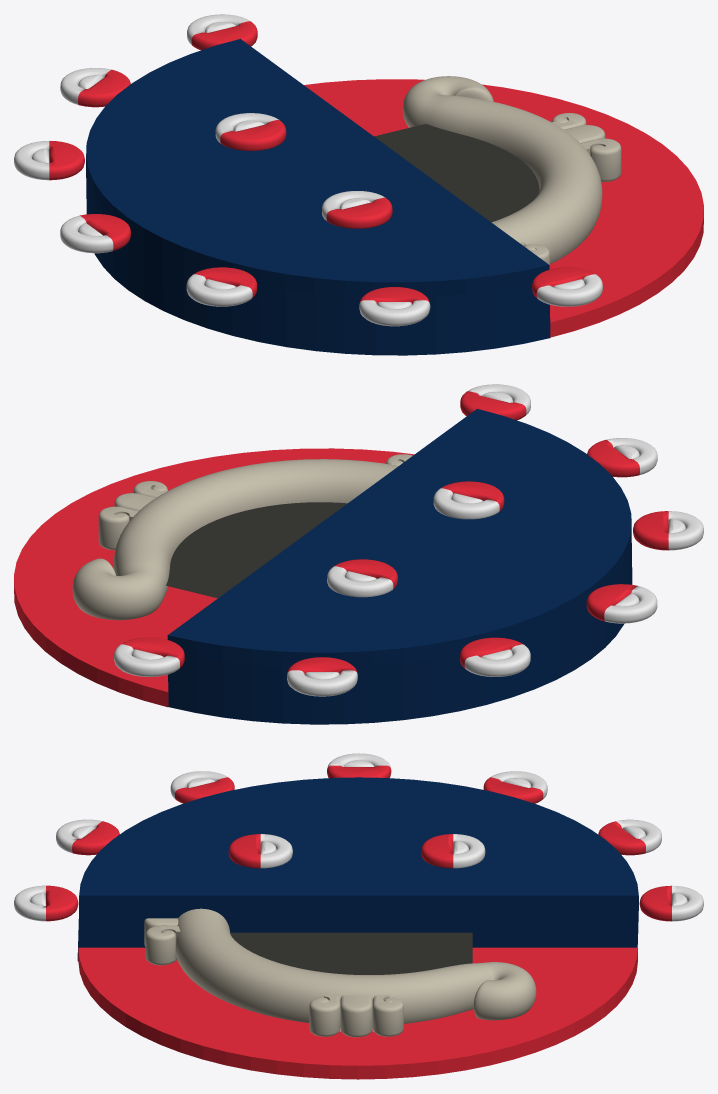
File: meztli_cualo_3d.gltf
The picture shows the model from 3 angles, top to bottom: view 1: azimuth 30°, elevation 25°; view 2: azimuth 150°, elevation 25°; view 3: azimuth 270°, elevation 25°; orthographic projection. The views are drawn at different scales.
Visible parts, largest first — view 1: Outer circle, Outer circle.001, Star, 1/3 M edge, Pulque, Boluta Complete.001, outer.001, outer.004; view 2: Outer circle, Outer circle.001, 1/3 M edge, Star, Pulque, Boluta Complete.001, outer.004, outer.001; view 3: Outer circle, Outer circle.001, 1/3 M edge, Star, Pulque, Boluta Complete.001, outer.001, outer.004.
Boxes of the visible parts, left/top/right/bottom form: Outer circle: left=86, top=39, right=550, bottom=355; Outer circle.001: left=304, top=79, right=703, bottom=337; Star: left=14, top=14, right=602, bottom=326; 1/3 M edge: left=402, top=76, right=602, bottom=264; Pulque: left=374, top=124, right=539, bottom=222; Boluta Complete.001: left=520, top=113, right=621, bottom=269; outer.001: left=215, top=113, right=286, bottom=150; outer.004: left=322, top=191, right=392, bottom=228; Outer circle: left=167, top=408, right=632, bottom=724; Outer circle.001: left=14, top=448, right=414, bottom=707; 1/3 M edge: left=72, top=459, right=398, bottom=620; Star: left=114, top=384, right=703, bottom=696; Pulque: left=166, top=502, right=347, bottom=598; Boluta Complete.001: left=98, top=454, right=412, bottom=550; outer.004: left=433, top=481, right=504, bottom=519; outer.001: left=327, top=559, right=397, bottom=597; Outer circle: left=77, top=777, right=638, bottom=960; Outer circle.001: left=78, top=947, right=637, bottom=1079; 1/3 M edge: left=175, top=908, right=536, bottom=1023; Star: left=14, top=753, right=703, bottom=921; Pulque: left=230, top=932, right=472, bottom=974; Boluta Complete.001: left=144, top=918, right=403, bottom=1037; outer.001: left=421, top=834, right=485, bottom=868; outer.004: left=228, top=834, right=292, bottom=868.
Size of the model in its own units: 4.46 by 0.5878 by 4.92.
